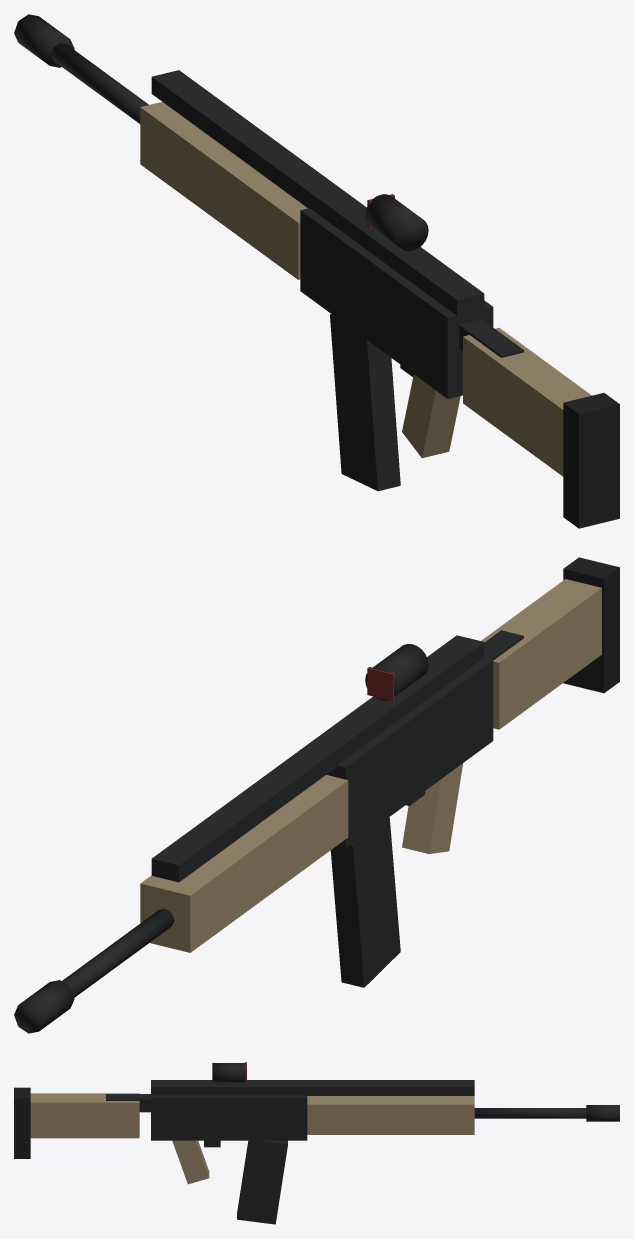
File: Rifle_Blue.fbx
3 views of the same model, one above another, from view 1: azimuth 30°, elevation 25°; view 2: azimuth 150°, elevation 25°; view 3: azimuth 270°, elevation 25° (orthographic). The views are drawn at different scales.
Visible parts, largest first — view 1: Receiver, Rail, Handguard, Stock, Magazine, ButtPad, Grip, Barrel, Optic, MuzzleDevice, BufferTube; view 2: Handguard, Receiver, Rail, Stock, Magazine, ButtPad, Grip, Barrel, MuzzleDevice, Optic, OpticLens, BufferTube; view 3: Receiver, Handguard, Rail, Stock, Magazine, Barrel, ButtPad, Grip, Optic, MuzzleDevice, BufferTube.
Part boxes in pixels (<box>): Receiver: <box>300,208,493,398</box>; Rail: <box>151,70,484,316</box>; Handguard: <box>140,102,307,279</box>; Stock: <box>463,327,591,476</box>; Magazine: <box>330,314,400,491</box>; ButtPad: <box>563,393,619,528</box>; Grip: <box>402,374,460,458</box>; Barrel: <box>51,43,148,123</box>; Optic: <box>365,194,428,251</box>; MuzzleDevice: <box>14,14,74,67</box>; BufferTube: <box>459,319,523,357</box>; Handguard: <box>140,775,348,952</box>; Receiver: <box>326,657,493,848</box>; Rail: <box>151,635,484,882</box>; Stock: <box>481,579,601,729</box>; Magazine: <box>330,817,400,987</box>; ButtPad: <box>563,557,619,693</box>; Grip: <box>402,763,463,853</box>; Barrel: <box>62,908,174,997</box>; MuzzleDevice: <box>14,980,74,1033</box>; Optic: <box>365,644,428,700</box>; OpticLens: <box>367,667,394,701</box>; BufferTube: <box>484,630,523,660</box>; Receiver: <box>151,1095,307,1140</box>; Handguard: <box>307,1096,474,1134</box>; Rail: <box>151,1080,474,1095</box>; Stock: <box>30,1093,139,1138</box>; Magazine: <box>237,1140,287,1224</box>; Barrel: <box>474,1108,586,1118</box>; ButtPad: <box>14,1087,30,1158</box>; Grip: <box>172,1140,209,1184</box>; Optic: <box>212,1063,245,1082</box>; MuzzleDevice: <box>586,1105,619,1121</box>; BufferTube: <box>106,1094,150,1112</box>.
Size of the model in its own units: 5.5 by 109 by 31.16.
